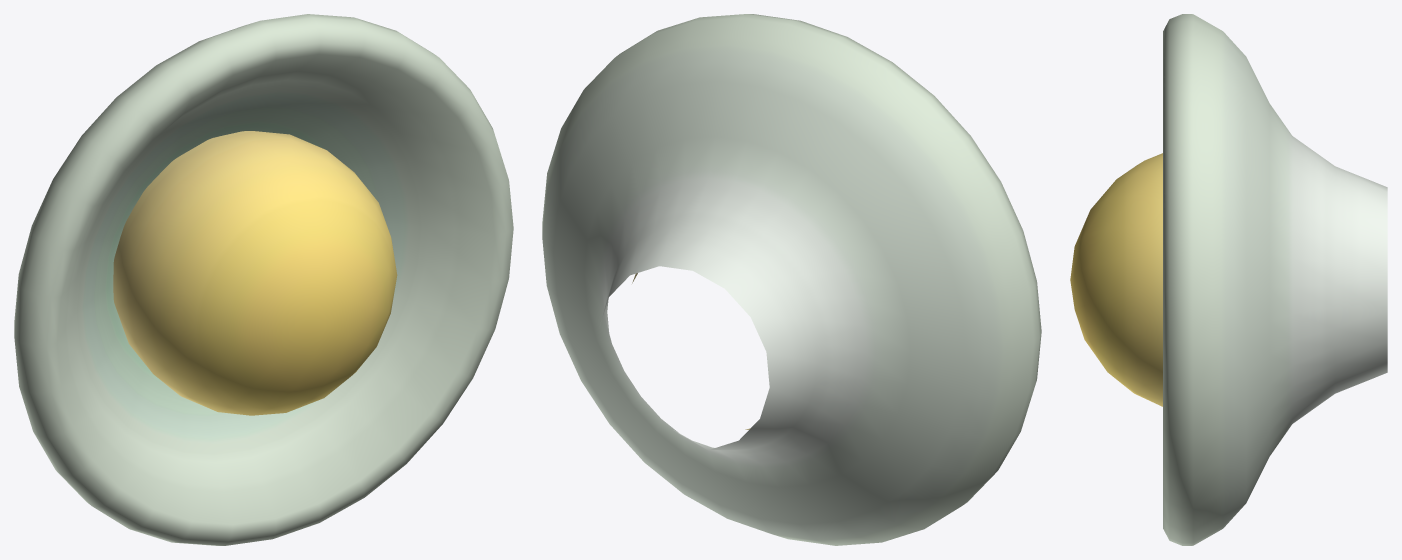
File: Light_11.glb
3 views of the same model, side by side, from view 1: azimuth 30°, elevation 25°; view 2: azimuth 150°, elevation 25°; view 3: azimuth 270°, elevation 25° (orthographic). The views are drawn at different scales.
Parts seen in each view (by area): view 1: Light_11; view 2: Light_11; view 3: Light_11.
Part boxes in pixels (x1,y1,x2,y2): Light_11: [14, 14, 513, 545]; Light_11: [542, 14, 1041, 545]; Light_11: [1070, 14, 1387, 545].
Bounding box in the file's own units: 0.246 × 0.246 × 0.1466.
1 material, 1 textured.
